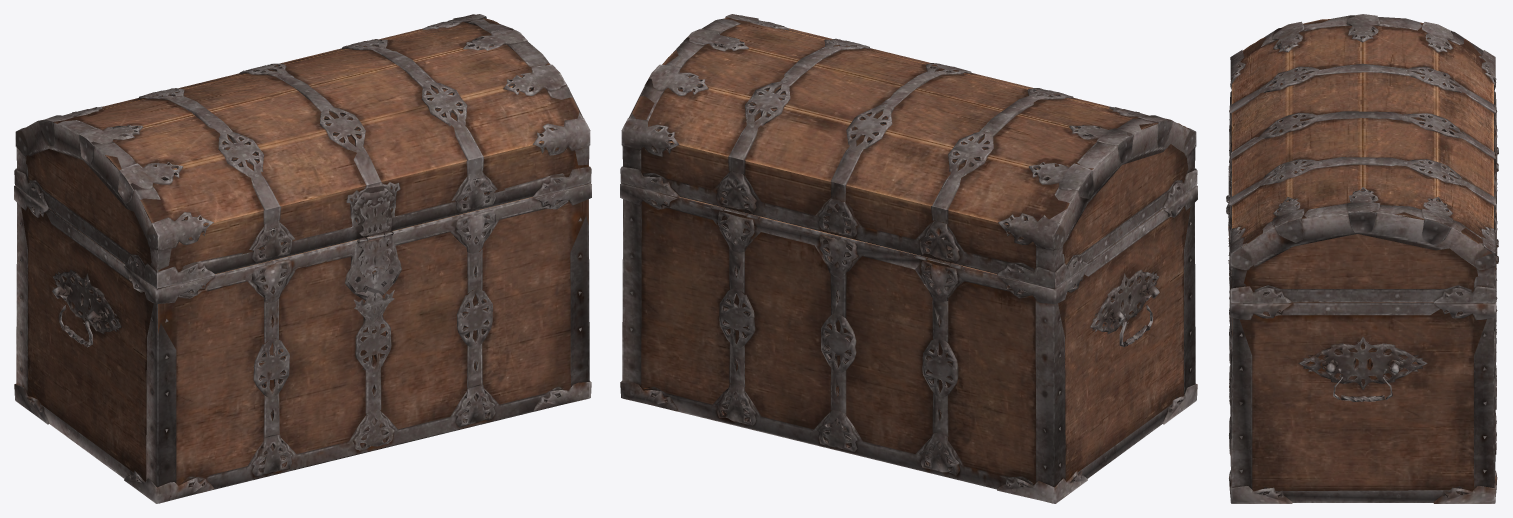
The model's file is treasure_chest.glb.
The picture shows the model from 3 angles, left to right: view 1: azimuth 30°, elevation 25°; view 2: azimuth 150°, elevation 25°; view 3: azimuth 270°, elevation 25°; orthographic projection. The views are drawn at different scales.
Visible parts, largest first — view 1: treasure_chest_bottom, treasure_chest_lid, treasure_chest_lock; view 2: treasure_chest_bottom, treasure_chest_lid; view 3: treasure_chest_lid, treasure_chest_bottom, treasure_chest_handle_right.
Part boxes in pixels (<box>): treasure_chest_bottom: <box>14,183,591,503</box>; treasure_chest_lid: <box>14,14,591,288</box>; treasure_chest_lock: <box>348,233,400,322</box>; treasure_chest_bottom: <box>620,183,1197,503</box>; treasure_chest_lid: <box>620,14,1197,288</box>; treasure_chest_lid: <box>1226,14,1498,303</box>; treasure_chest_bottom: <box>1229,132,1498,503</box>; treasure_chest_handle_right: <box>1320,367,1405,401</box>.
Bounding box in the file's own units: 0.9605 × 0.6183 × 0.5225.
Materials: 1 (1 with a texture image).
